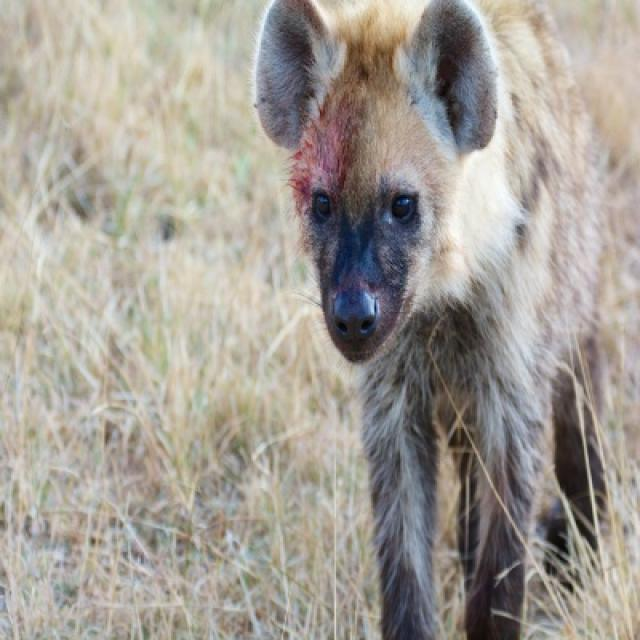hyena: (252, 0, 612, 638)
